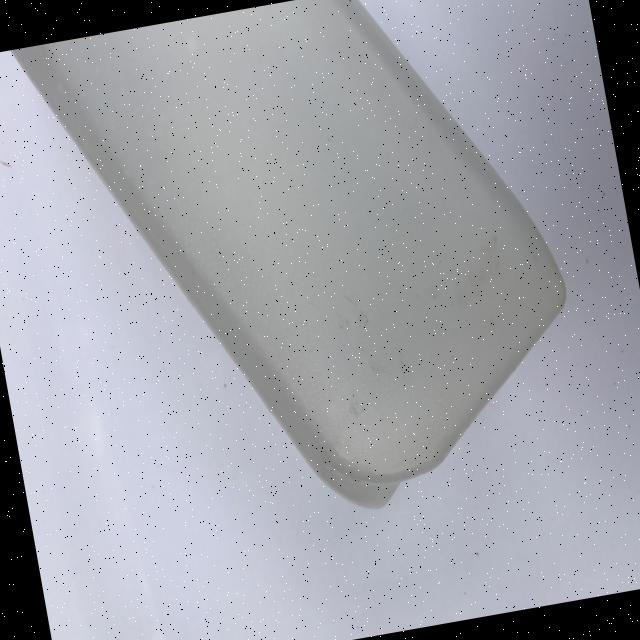plastic: (9, 0, 598, 559)
